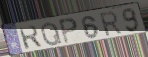6: (80, 15, 100, 40)
9: (121, 7, 141, 33)
P: (57, 16, 79, 45)
Q: (40, 20, 64, 47)
R: (98, 10, 124, 38), (18, 24, 44, 50)
